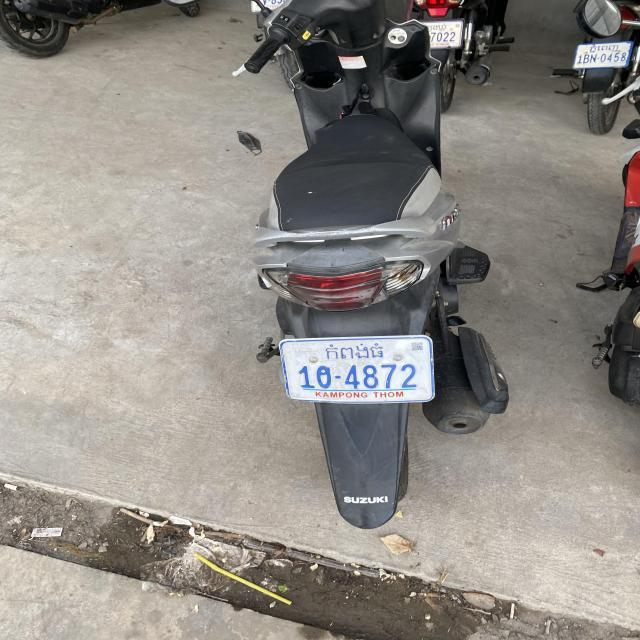Kampong_Thom: (325, 341, 387, 362)
